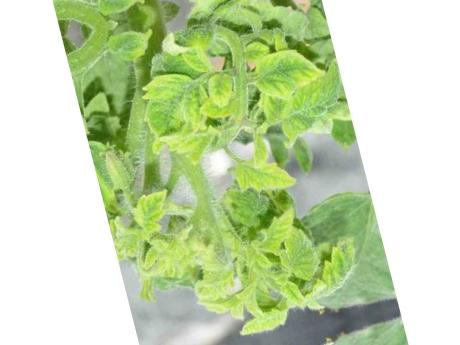Tomato leaf yellow virus: (136, 63, 212, 153), (241, 36, 328, 109), (217, 146, 302, 206), (290, 236, 365, 302), (251, 204, 302, 258), (131, 181, 175, 237)
